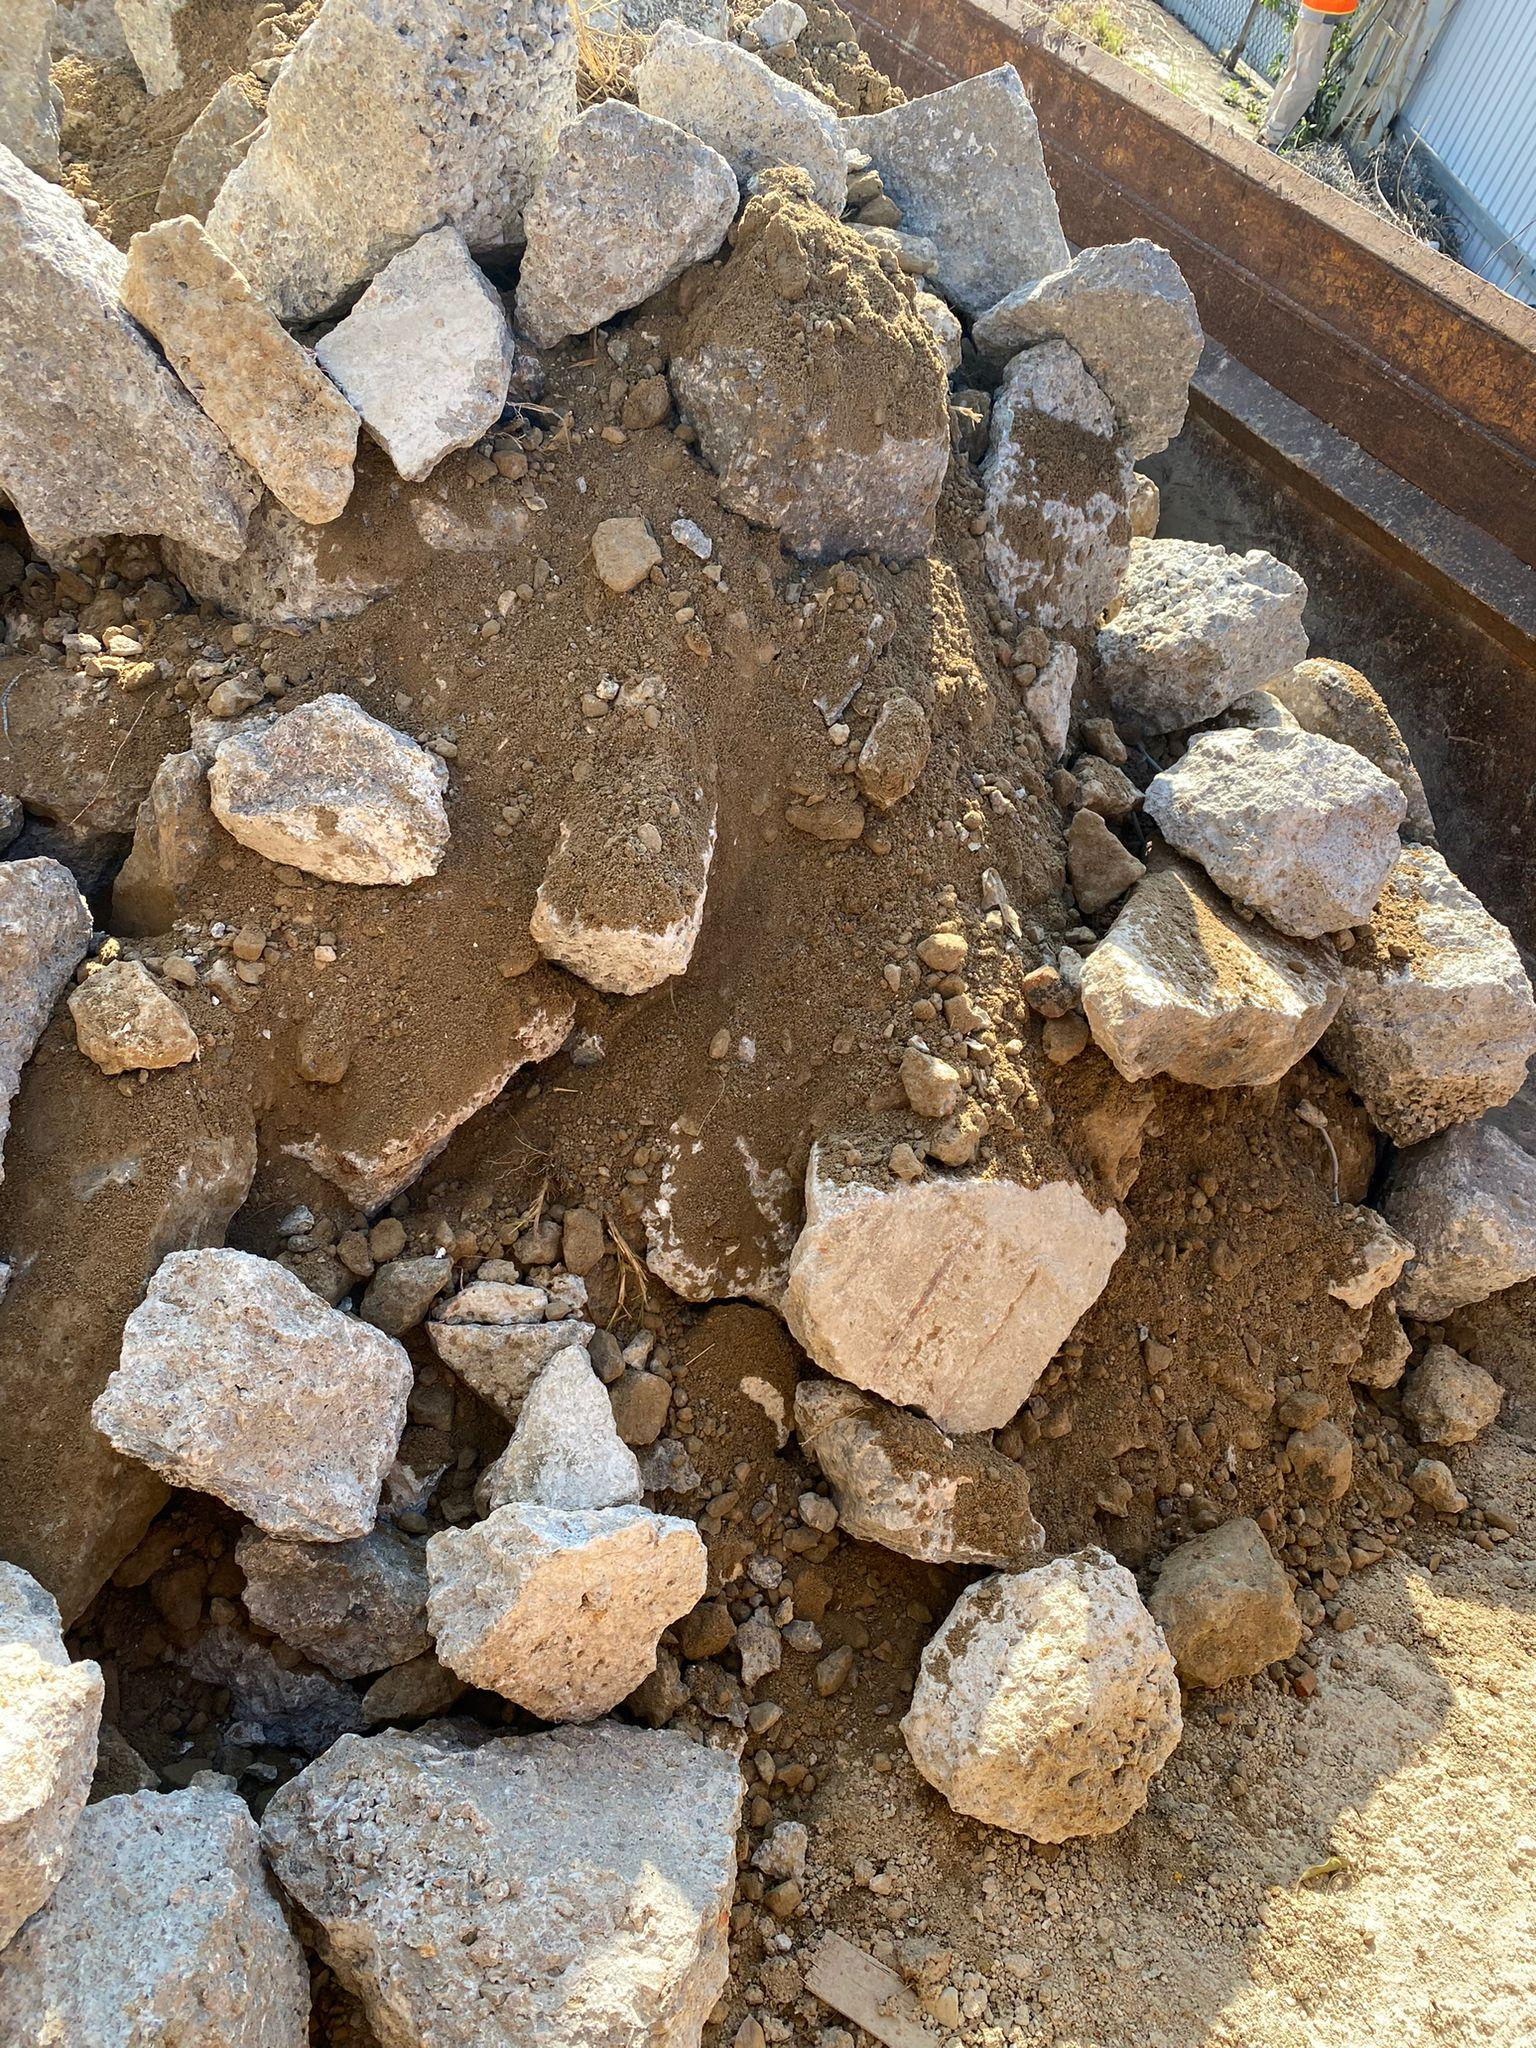dry: (19, 10, 1507, 2033)
